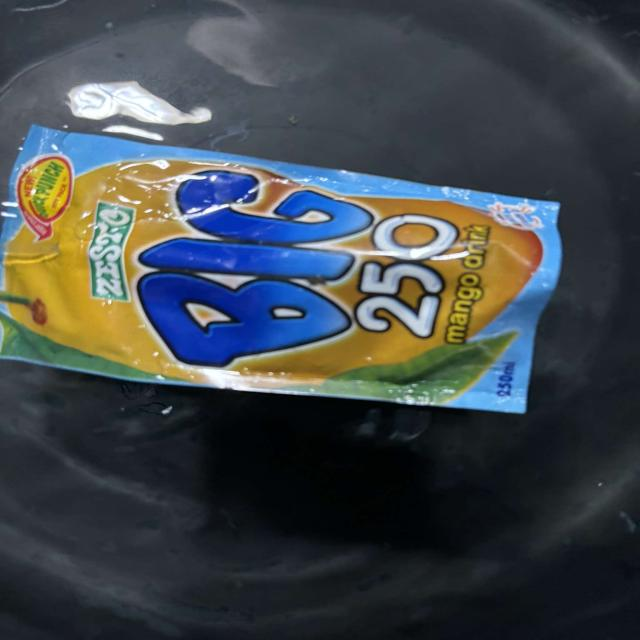Plastic Pouch: (0, 113, 585, 426)
